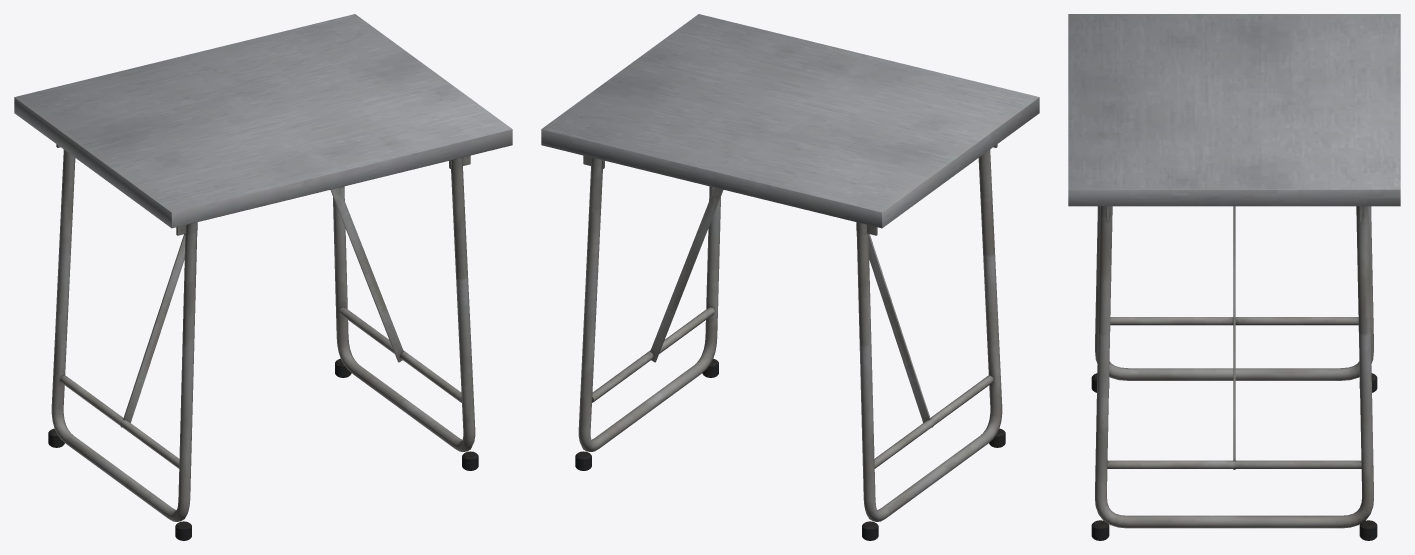
The model's file is thai_table_steel.glb.
3 renders of one model, left to right at view 1: azimuth 30°, elevation 25°; view 2: azimuth 150°, elevation 25°; view 3: azimuth 270°, elevation 25°, orthographic. The views are drawn at different scales.
Parts seen in each view (by area): view 1: thai_table_steel; view 2: thai_table_steel; view 3: thai_table_steel.
Boxes of the visible parts, x1,y1,x2,y2 form: thai_table_steel: [14, 14, 512, 540]; thai_table_steel: [541, 14, 1039, 540]; thai_table_steel: [1068, 14, 1400, 540].
Bounding box in the file's own units: 0.75 × 0.722 × 0.6.
Materials: 1 (1 with a texture image).
